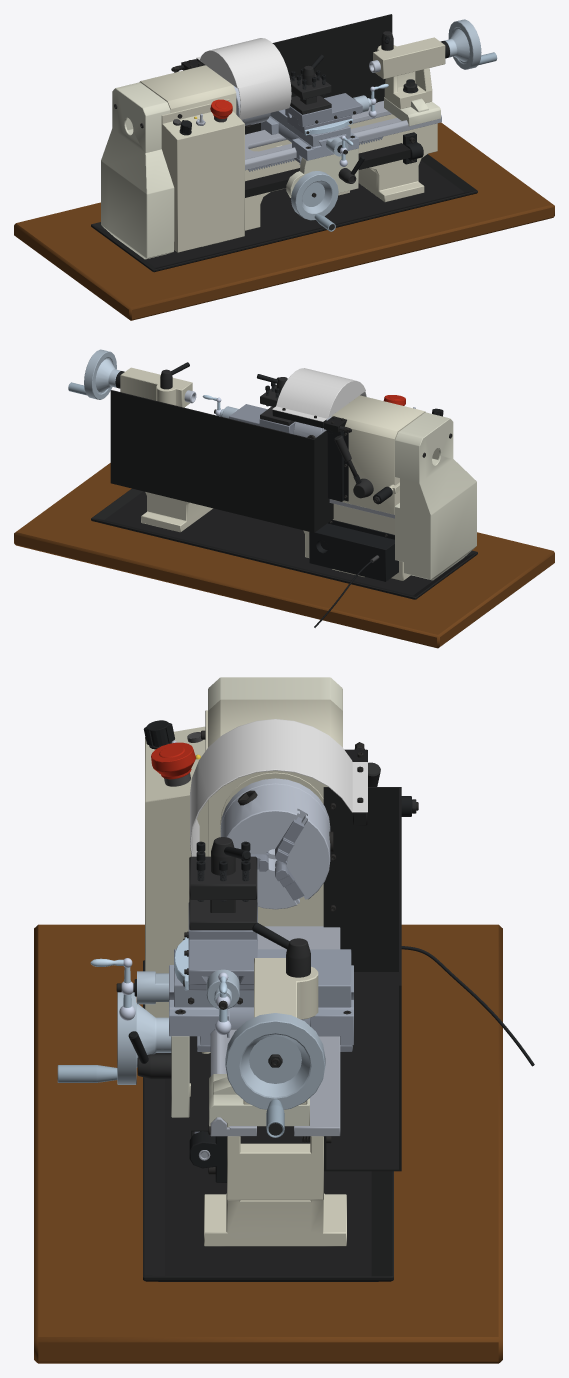
Rendered from токарный.fbx.
3 views of the same model, one above another, from view 1: azimuth 30°, elevation 25°; view 2: azimuth 150°, elevation 25°; view 3: azimuth 270°, elevation 25° (orthographic). The views are drawn at different scales.
Visible parts, largest first — view 1: Cube.036, Cube.005, Cube.004, Cube.008, Cylinder.060, Cube.028, Cylinder.014, Cube, Cylinder.037, Cylinder.002, Cube.003, направляющая станины нев (+3 smaller); view 2: Cube.036, Cube.028, Cube.005, Cube.008, Cube.003, Cube.029, Cylinder.060, Cylinder.037, Cube, Cylinder.002, Cube.030; view 3: Cube.036, Cube.028, Cube.008, Cylinder.060, Cube, Cylinder.014, Cube.004, Cylinder.037, Cylinder.002, Cylinder.009, Cube.003, Cylinder.075 (+5 smaller).
Boxes of the visible parts, x1=… form: Cube.036: x1=14, y1=122, x2=554, y2=320; Cube.005: x1=101, y1=82, x2=174, y2=259; Cube.004: x1=161, y1=99, x2=244, y2=252; Cube.008: x1=91, y1=154, x2=477, y2=272; Cylinder.060: x1=369, y1=19, x2=497, y2=126; Cube.028: x1=245, y1=14, x2=392, y2=134; Cylinder.014: x1=261, y1=116, x2=364, y2=231; Cube: x1=202, y1=114, x2=437, y2=246; Cylinder.037: x1=196, y1=38, x2=291, y2=119; Cylinder.002: x1=285, y1=54, x2=362, y2=127; Cube.003: x1=139, y1=65, x2=236, y2=113; направляющая станины нев: x1=245, y1=101, x2=441, y2=170; Cube.036: x1=14, y1=463, x2=554, y2=648; Cube.028: x1=110, y1=390, x2=333, y2=532; Cube.005: x1=395, y1=412, x2=476, y2=580; Cube.008: x1=91, y1=488, x2=477, y2=599; Cube.003: x1=331, y1=395, x2=425, y2=514; Cube.029: x1=309, y1=519, x2=398, y2=581; Cylinder.060: x1=68, y1=349, x2=196, y2=407; Cylinder.037: x1=272, y1=368, x2=366, y2=421; Cube: x1=141, y1=492, x2=410, y2=580; Cylinder.002: x1=229, y1=374, x2=295, y2=433; Cube.030: x1=326, y1=430, x2=348, y2=501; Cube.036: x1=34, y1=924, x2=502, y2=1363; Cube.028: x1=323, y1=787, x2=401, y2=1171; Cube.008: x1=143, y1=960, x2=393, y2=1281; Cylinder.060: x1=209, y1=922, x2=325, y2=1137; Cube: x1=204, y1=1136, x2=346, y2=1246; Cylinder.014: x1=57, y1=958, x2=353, y2=1117; Cube.004: x1=145, y1=710, x2=207, y2=1017; Cylinder.037: x1=190, y1=719, x2=367, y2=856; Cylinder.002: x1=184, y1=837, x2=257, y2=984; Cylinder.009: x1=220, y1=784, x2=330, y2=909; Cube.003: x1=208, y1=699, x2=342, y2=926; Cylinder.075: x1=174, y1=937, x2=351, y2=1034.
Bounding box in the file's own units: 707 × 301 × 360.
